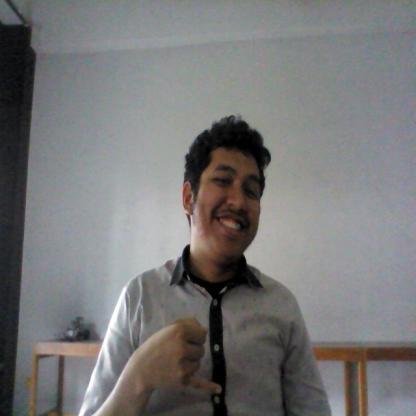J: (120, 312, 232, 408)
